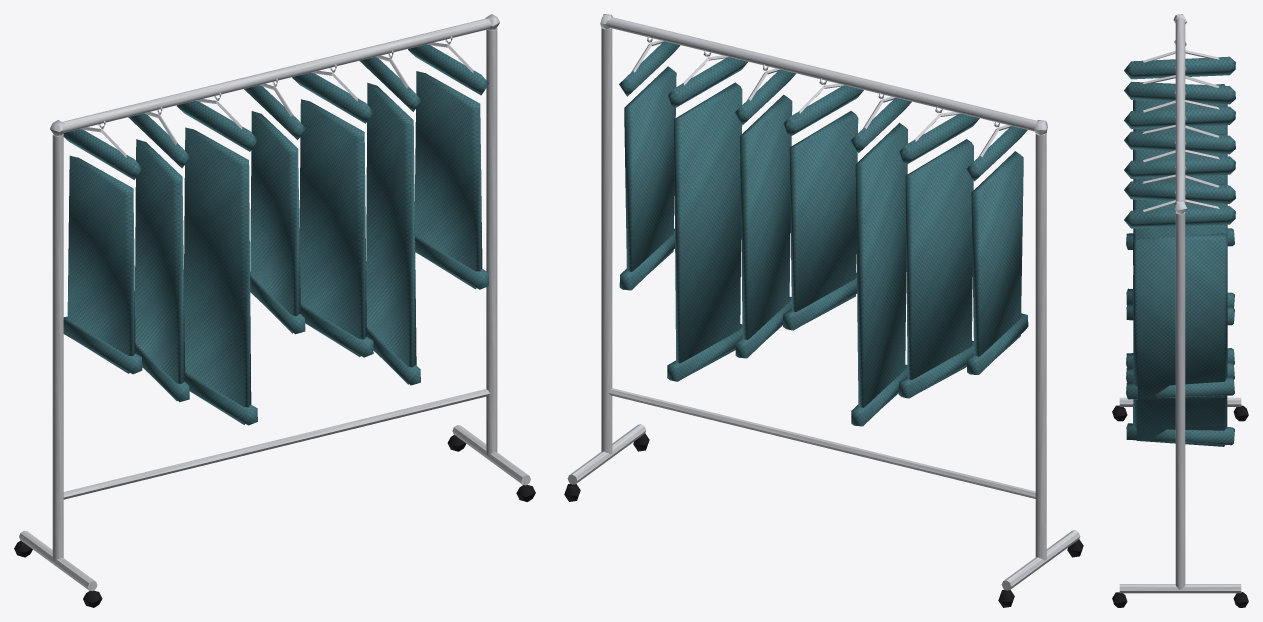
The model's file is arara-16-7-leve.glb.
3 renders of one model, left to right at view 1: azimuth 30°, elevation 25°; view 2: azimuth 150°, elevation 25°; view 3: azimuth 270°, elevation 25°, orthographic. The views are drawn at different scales.
Visible parts, largest first — view 1: corpo.002, corpo.004, corpo.005, corpo, corpo.006, corpo.001, corpo.003, varao, coluna, coluna.001, travessa, ombros.006 (+15 smaller); view 2: corpo.005, corpo.001, corpo.002, corpo.003, corpo.004, corpo, corpo.006, varao, coluna, coluna.001, travessa, ombros.001 (+15 smaller); view 3: corpo.006, corpo.005, coluna.001, varao, ombros.006, ombros.004, ombros.002, ombros.003, ombros.005, ombros, ombros.001, pe.001 (+13 smaller).
Boxes of the visible parts, <box> form: corpo.002: <box>184,127,251,424</box>; corpo.004: <box>299,99,366,356</box>; corpo.005: <box>366,82,416,384</box>; corpo: <box>67,155,135,373</box>; corpo.006: <box>414,71,482,289</box>; corpo.001: <box>135,139,185,400</box>; corpo.003: <box>250,111,300,333</box>; varao: <box>62,18,490,132</box>; coluna: <box>52,134,63,561</box>; coluna.001: <box>486,28,497,455</box>; travessa: <box>63,389,489,499</box>; ombros.006: <box>408,44,488,95</box>; corpo.005: <box>674,82,742,373</box>; corpo.001: <box>905,139,973,391</box>; corpo.002: <box>855,123,907,407</box>; corpo.003: <box>789,111,858,324</box>; corpo.004: <box>740,94,792,339</box>; corpo: <box>971,151,1023,358</box>; corpo.006: <box>624,66,676,271</box>; varao: <box>606,17,1037,131</box>; coluna: <box>1035,133,1046,560</box>; coluna.001: <box>601,27,612,454</box>; travessa: <box>608,388,1035,498</box>; ombros.001: <box>899,114,979,164</box>; corpo.006: <box>1133,233,1227,399</box>; corpo.005: <box>1133,224,1227,446</box>; coluna.001: <box>1175,212,1185,589</box>; varao: <box>1175,18,1185,204</box>; ombros.006: <box>1124,206,1235,228</box>; ombros.004: <box>1124,156,1235,178</box>; ombros.002: <box>1124,106,1235,129</box>; ombros.003: <box>1124,131,1235,154</box>; ombros.005: <box>1124,181,1235,203</box>; ombros: <box>1124,56,1235,79</box>; ombros.001: <box>1124,81,1235,104</box>; pe.001: <box>1119,584,1241,593</box>.
Size of the model in its own units: 1.66 by 1.62 by 0.4957.
3 materials, 2 textured.
